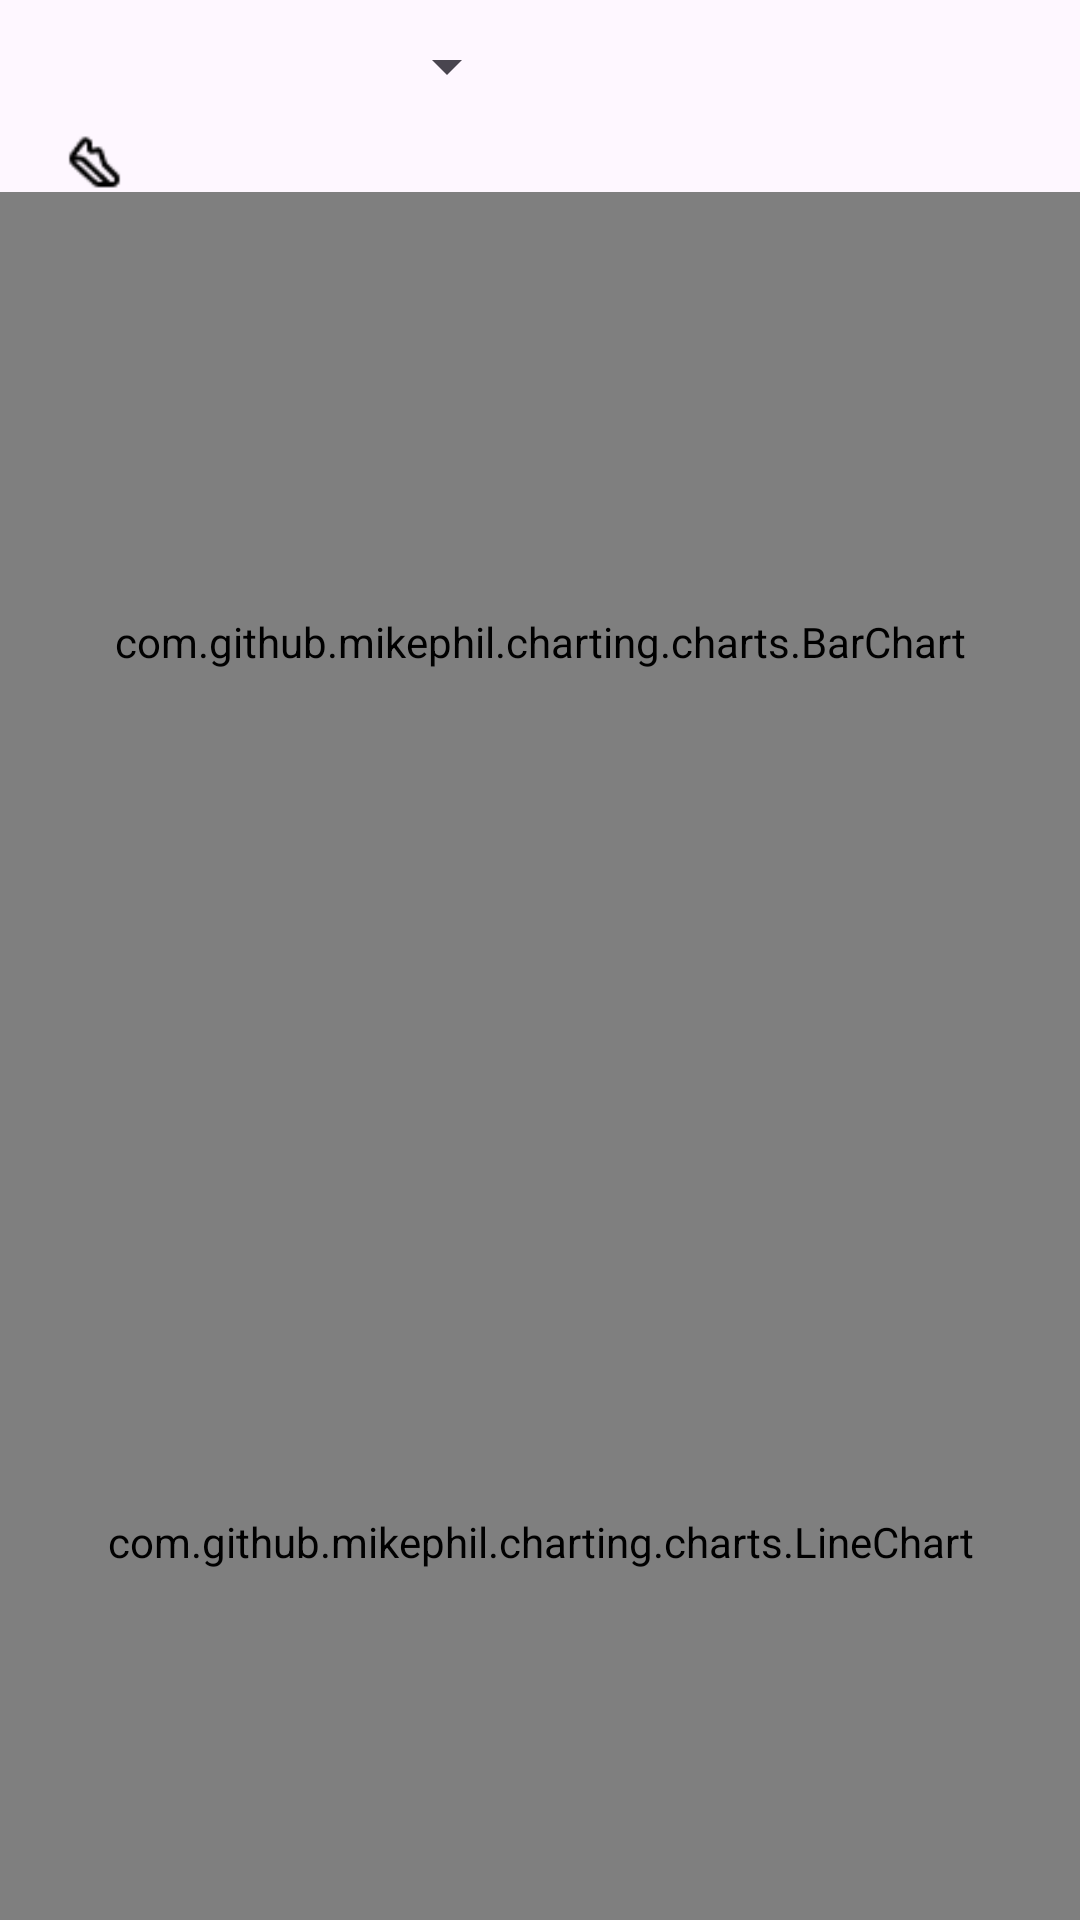

Named icons in this screenshot (1080 x 1920) and their bounding boxes, bbox=(x1, y1, x2, y2):
symbols steps: bbox=(68, 136, 120, 188)
